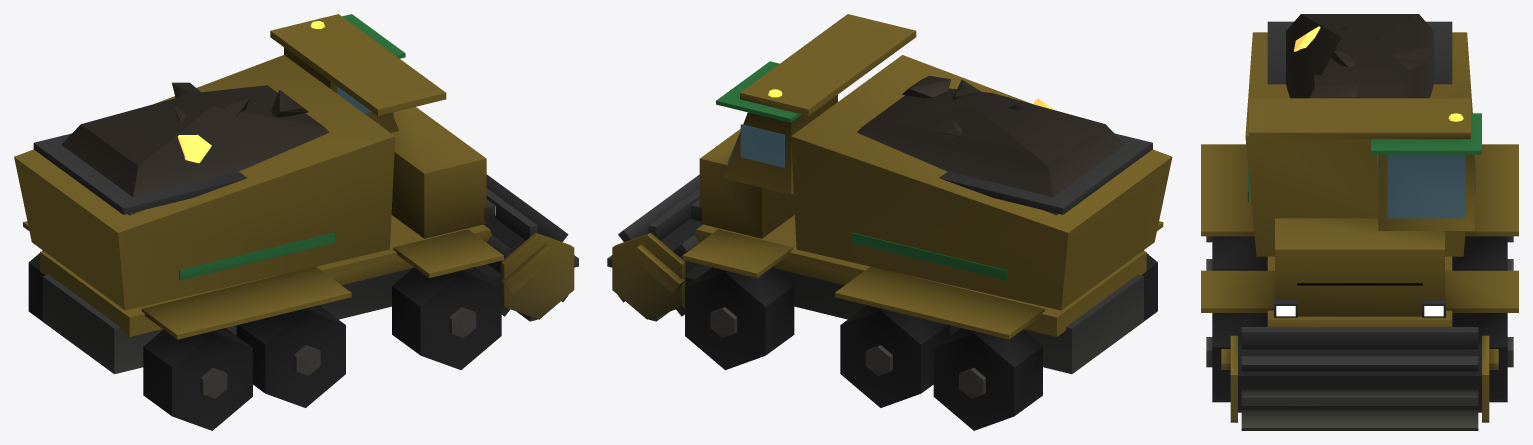
Rendered from u_harv_lod1.glb.
The picture shows the model from 3 angles, left to right: view 1: azimuth 30°, elevation 25°; view 2: azimuth 150°, elevation 25°; view 3: azimuth 270°, elevation 25°; orthographic projection. The views are drawn at different scales.
Visible parts, largest first — view 1: Harv_LOD1_Walls, Harv_LOD1_Foundation, Harv_LOD1_load, Harv_LOD1_rotor, Harv_LOD1_Frame, Harv_LOD1_Details; view 2: Harv_LOD1_Walls, Harv_LOD1_Foundation, Harv_LOD1_load, Harv_LOD1_rotor, Harv_LOD1_Frame, Harv_LOD1_Details; view 3: Harv_LOD1_Walls, Harv_LOD1_rotor, Harv_LOD1_load, Harv_LOD1_Details, Harv_LOD1_Foundation.
Boxes of the visible parts, bbox=[...] form: Harv_LOD1_Walls: bbox=[14, 14, 555, 339]; Harv_LOD1_Foundation: bbox=[28, 250, 501, 430]; Harv_LOD1_load: bbox=[61, 82, 329, 215]; Harv_LOD1_rotor: bbox=[474, 174, 578, 321]; Harv_LOD1_Frame: bbox=[42, 268, 412, 374]; Harv_LOD1_Details: bbox=[179, 14, 495, 398]; Harv_LOD1_Walls: bbox=[631, 14, 1172, 339]; Harv_LOD1_Foundation: bbox=[685, 250, 1157, 430]; Harv_LOD1_load: bbox=[857, 75, 1124, 215]; Harv_LOD1_rotor: bbox=[607, 174, 711, 321]; Harv_LOD1_Frame: bbox=[773, 268, 1143, 374]; Harv_LOD1_Details: bbox=[691, 61, 1007, 398]; Harv_LOD1_Walls: bbox=[1201, 21, 1518, 369]; Harv_LOD1_rotor: bbox=[1230, 327, 1489, 430]; Harv_LOD1_load: bbox=[1286, 14, 1433, 98]; Harv_LOD1_Details: bbox=[1206, 113, 1513, 367]; Harv_LOD1_Foundation: bbox=[1212, 236, 1507, 402].
Bounding box in the file's own units: 1.46 × 0.825 × 0.86.
